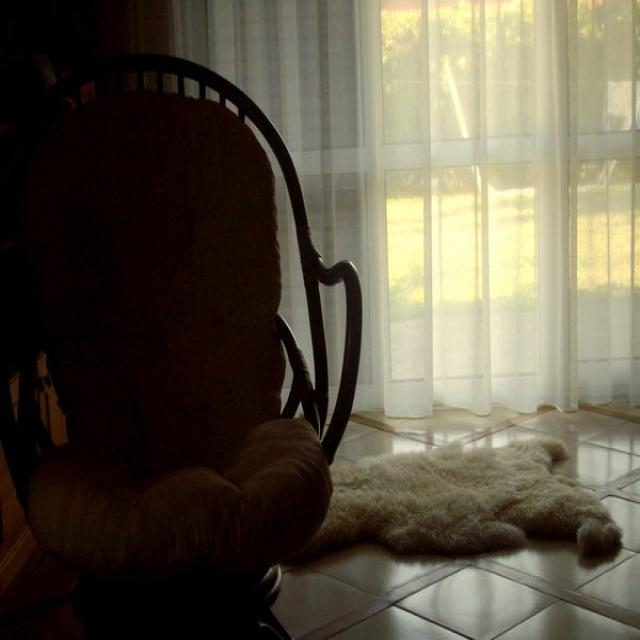chair: (0, 18, 378, 640)
